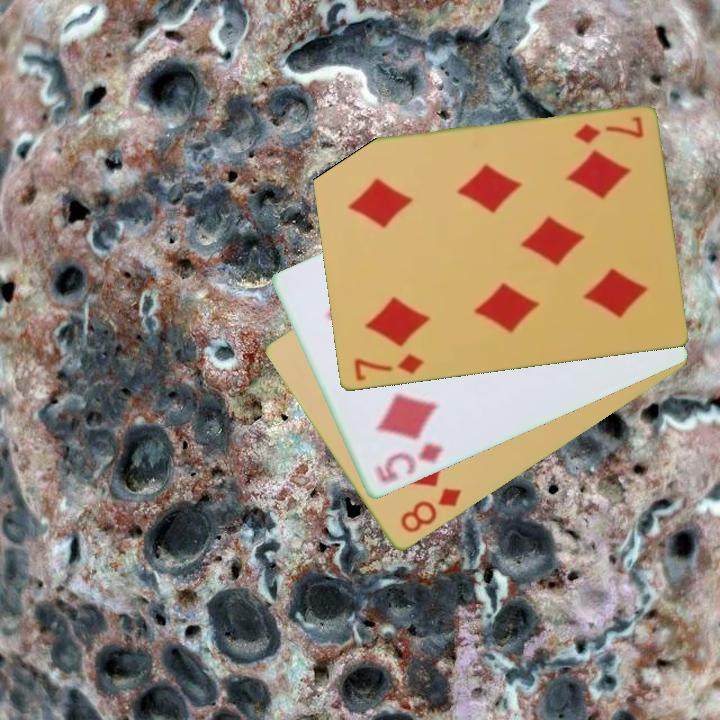5d: (371, 440, 446, 487)
7d: (350, 350, 427, 385), (570, 113, 646, 148)
8d: (396, 485, 465, 537)
